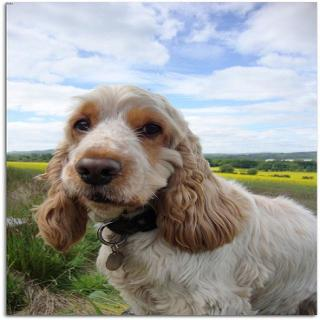dog: (31, 81, 247, 267)
nose: (72, 152, 121, 191)
